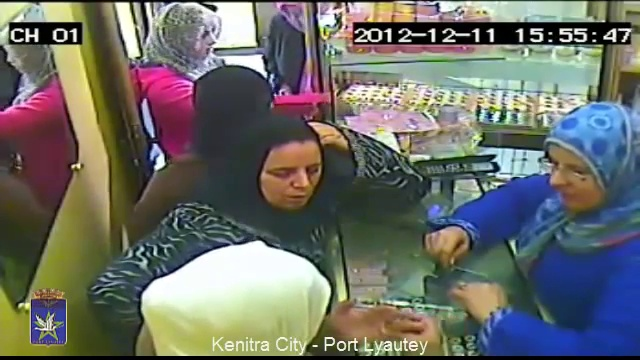face: (544, 145, 600, 210), (264, 157, 324, 207), (187, 22, 217, 58)
